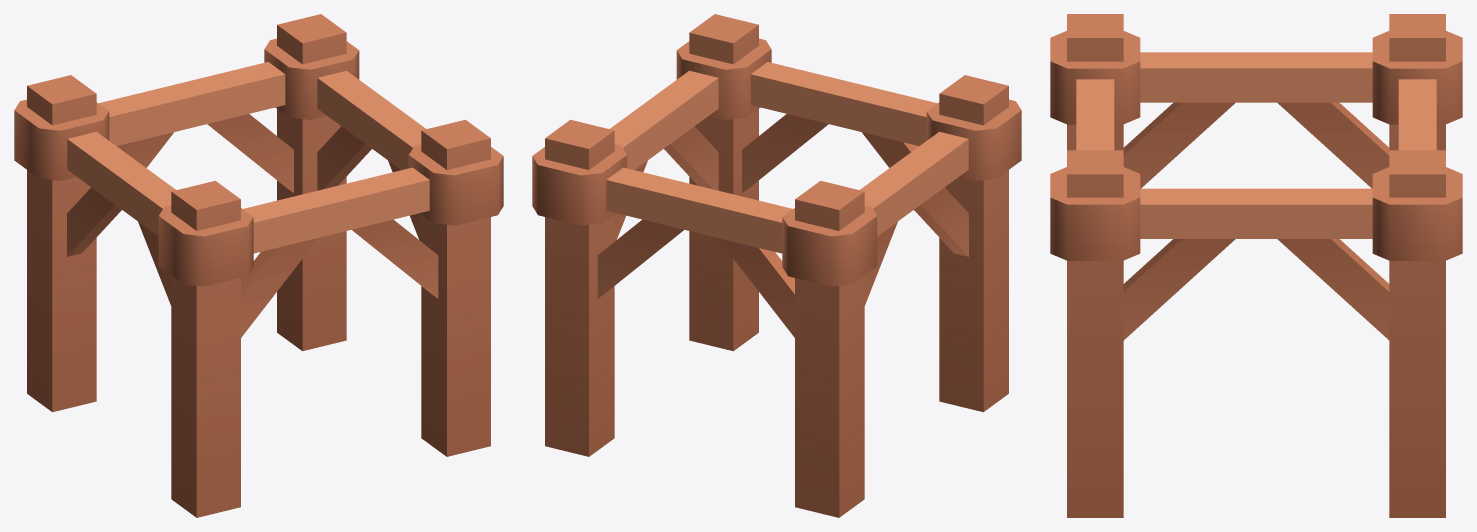
File: wood-structure.fbx
3 views of the same model, side by side, from view 1: azimuth 30°, elevation 25°; view 2: azimuth 150°, elevation 25°; view 3: azimuth 270°, elevation 25° (orthographic). The views are drawn at different scales.
Parts seen in each view (by area): view 1: wood-structure; view 2: wood-structure; view 3: wood-structure.
Boxes of the visible parts, x1,y1,x2,y2 form: wood-structure: [14, 14, 503, 517]; wood-structure: [532, 14, 1021, 517]; wood-structure: [1050, 14, 1462, 517].
Bounding box in the file's own units: 109 × 100 × 109.
